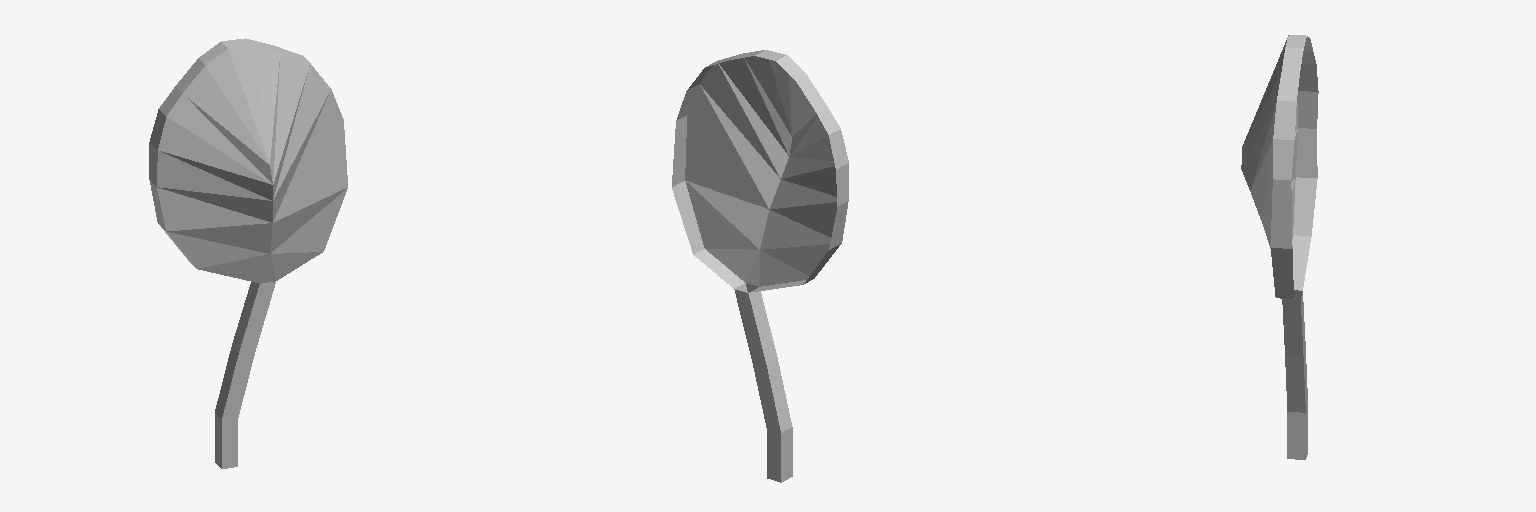
The model's file is arbre3.obj.
3 views of the same model, side by side, from view 1: azimuth 30°, elevation 25°; view 2: azimuth 150°, elevation 25°; view 3: azimuth 270°, elevation 25° (orthographic).
Size of the model in its own units: 0.4668 by 1.04 by 0.1732.